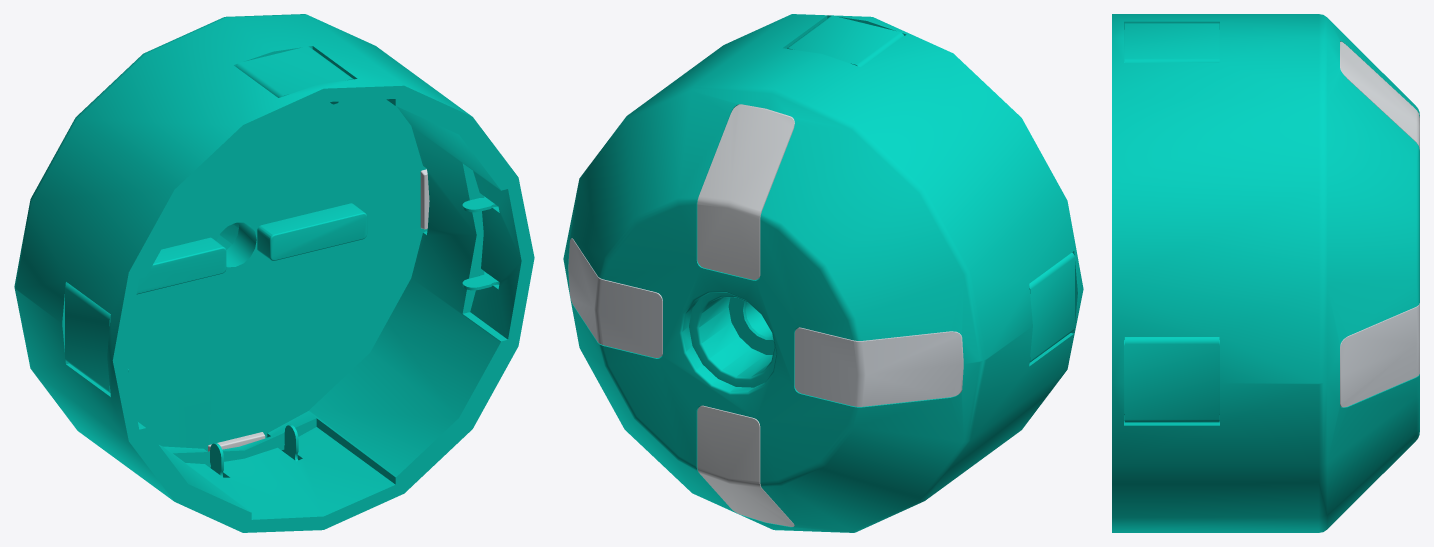
Rendered from Activator BT65A.gltf.
The picture shows the model from 3 angles, left to right: view 1: azimuth 30°, elevation 25°; view 2: azimuth 150°, elevation 25°; view 3: azimuth 270°, elevation 25°; orthographic projection. The views are drawn at different scales.
Visible parts, largest first — view 1: _Activator_BT65A_10001381_0, _Activator_BT65A_10001385_0, _Activator_BT65A_10001382_0, _Activator_BT65A_10001384_0, _Activator_BT65A_10001383_0; view 2: _Activator_BT65A_10001381_0, _Activator_BT65A_10001385_0, _Activator_BT65A_10001382_0; view 3: _Activator_BT65A_10001381_0, _Activator_BT65A_10001383_0, _Activator_BT65A_10001382_0.
Part boxes in pixels (x1,y1,x2,y2): _Activator_BT65A_10001381_0: (14,14,534,532); _Activator_BT65A_10001385_0: (65,283,128,393); _Activator_BT65A_10001382_0: (235,46,353,104); _Activator_BT65A_10001384_0: (210,424,298,476); _Activator_BT65A_10001383_0: (462,197,499,290); _Activator_BT65A_10001381_0: (563,14,1083,532); _Activator_BT65A_10001385_0: (1029,252,1074,362); _Activator_BT65A_10001382_0: (787,16,904,67); _Activator_BT65A_10001381_0: (1112,14,1419,532); _Activator_BT65A_10001383_0: (1124,337,1219,422); _Activator_BT65A_10001382_0: (1124,23,1219,62).
Size of the model in its own units: 65 by 65 by 38.5.
